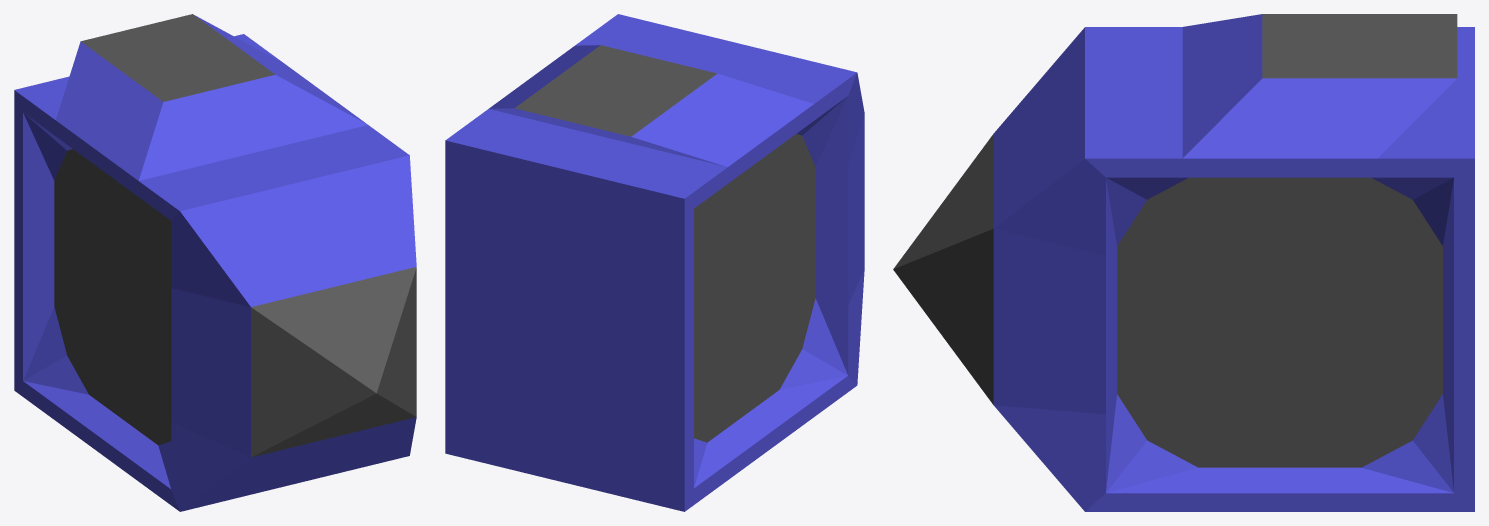
Rendered from AlienCarrier.glb.
The picture shows the model from 3 angles, left to right: view 1: azimuth 30°, elevation 25°; view 2: azimuth 150°, elevation 25°; view 3: azimuth 270°, elevation 25°; orthographic projection. The views are drawn at different scales.
Visible parts, largest first — view 1: Cube; view 2: Cube; view 3: Cube.
Boxes of the visible parts, bbox=[...] form: Cube: bbox=[14, 14, 416, 511]; Cube: bbox=[445, 14, 864, 511]; Cube: bbox=[893, 14, 1474, 511].
Size of the model in its own units: 0.78 by 1.1 by 1.46.
